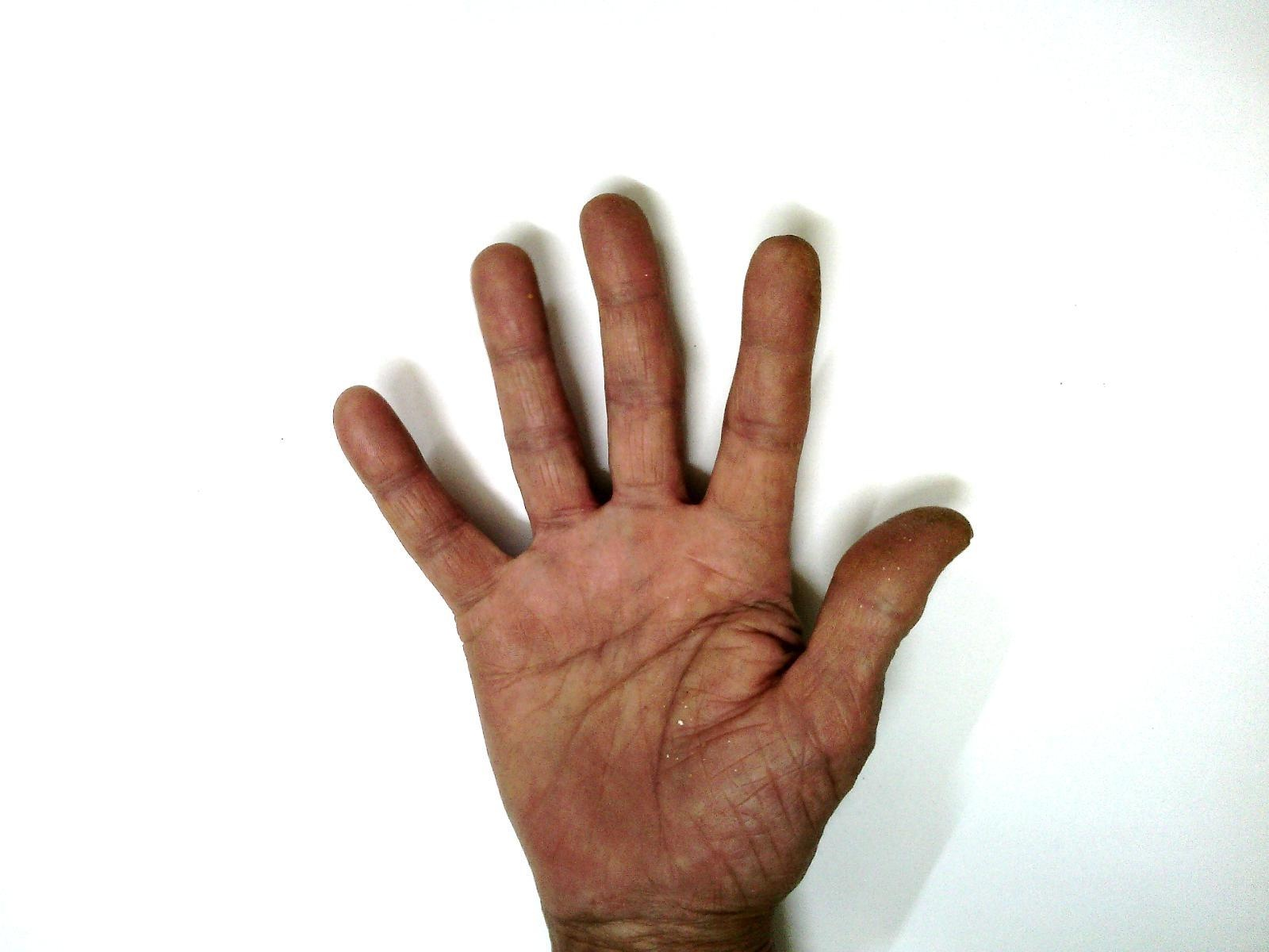open_palm: (330, 191, 976, 921)
